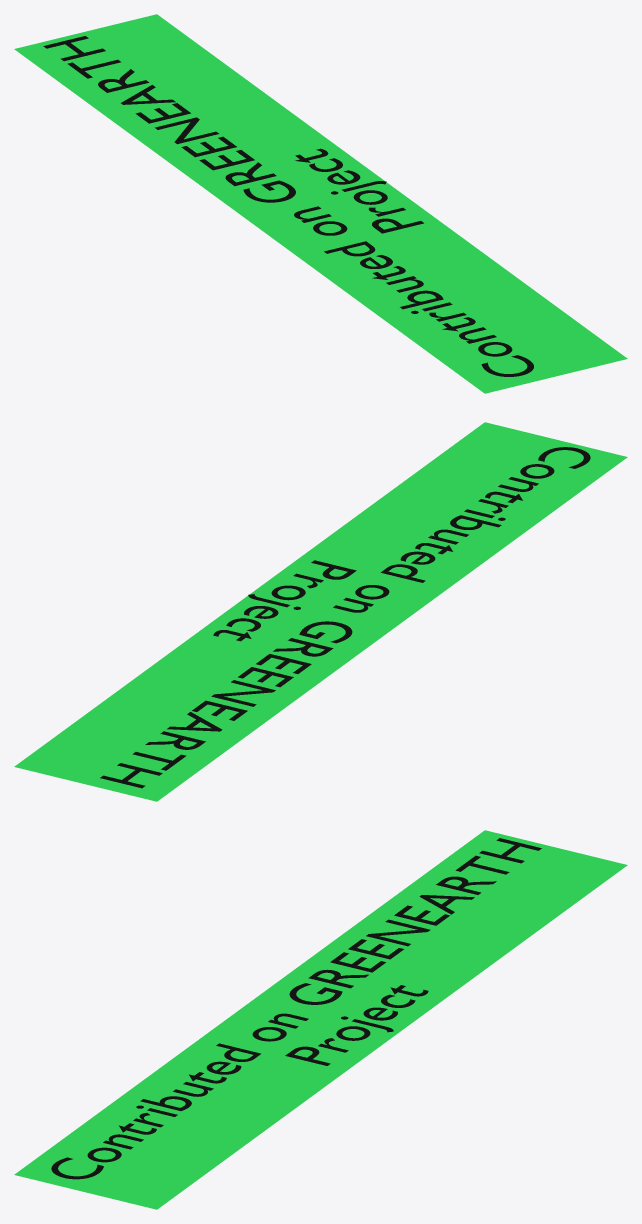
Rendered from Plant.glb.
3 renders of one model, top to bottom at view 1: azimuth 30°, elevation 25°; view 2: azimuth 150°, elevation 25°; view 3: azimuth 330°, elevation 25°, orthographic.
Parts seen in each view (by area): view 1: Plane, Text; view 2: Plane, Text; view 3: Plane, Text.
Boxes of the visible parts, bbox=[...] form: Plane: bbox=[14, 14, 627, 393]; Text: bbox=[43, 36, 533, 376]; Plane: bbox=[14, 422, 627, 801]; Text: bbox=[100, 447, 590, 788]; Plane: bbox=[14, 830, 627, 1209]; Text: bbox=[51, 838, 541, 1179].
Size of the model in its own units: 2.3 by 0.0428 by 13.13.
